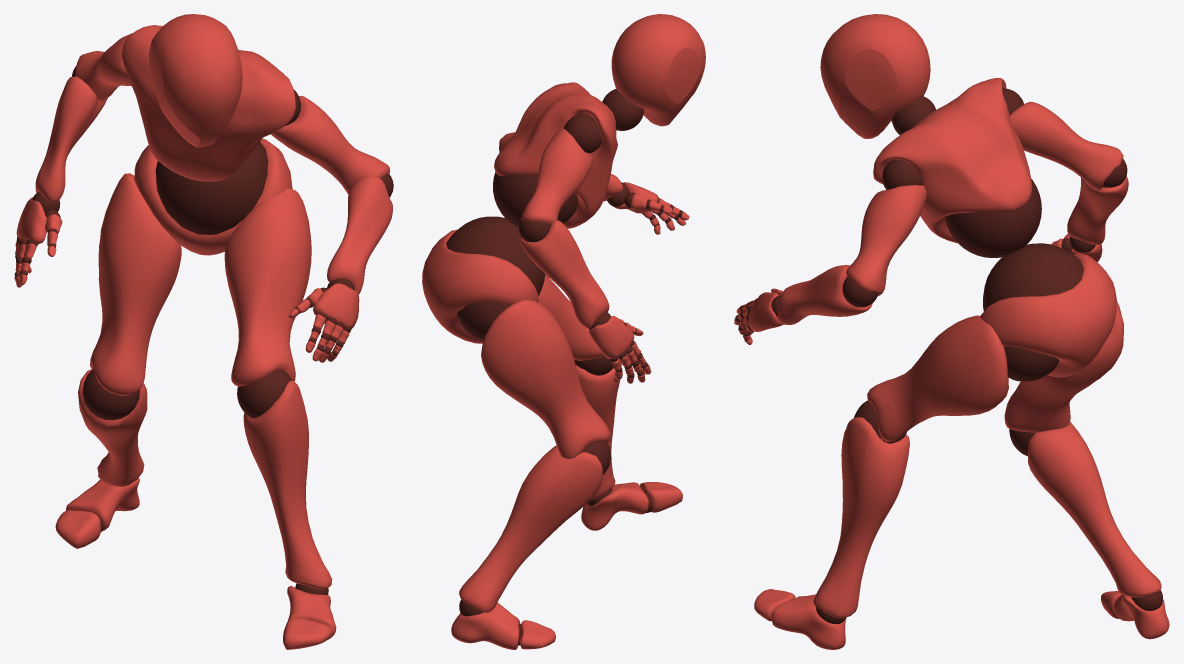
The picture shows the model from 3 angles, left to right: view 1: azimuth 30°, elevation 25°; view 2: azimuth 150°, elevation 25°; view 3: azimuth 270°, elevation 25°; orthographic projection. The views are drawn at different scales.
Visible parts, largest first — view 1: Beta_Surface, Beta_Joints; view 2: Beta_Surface, Beta_Joints; view 3: Beta_Surface, Beta_Joints.
Part boxes in pixels (x1,y1,x2,y2): Beta_Surface: [14, 14, 392, 649]; Beta_Joints: [14, 66, 393, 594]; Beta_Surface: [422, 14, 705, 649]; Beta_Joints: [446, 89, 682, 645]; Beta_Surface: [734, 14, 1169, 649]; Beta_Joints: [735, 88, 1162, 624].
Size of the model in its own units: 0.6586 by 1.44 by 0.9637.
